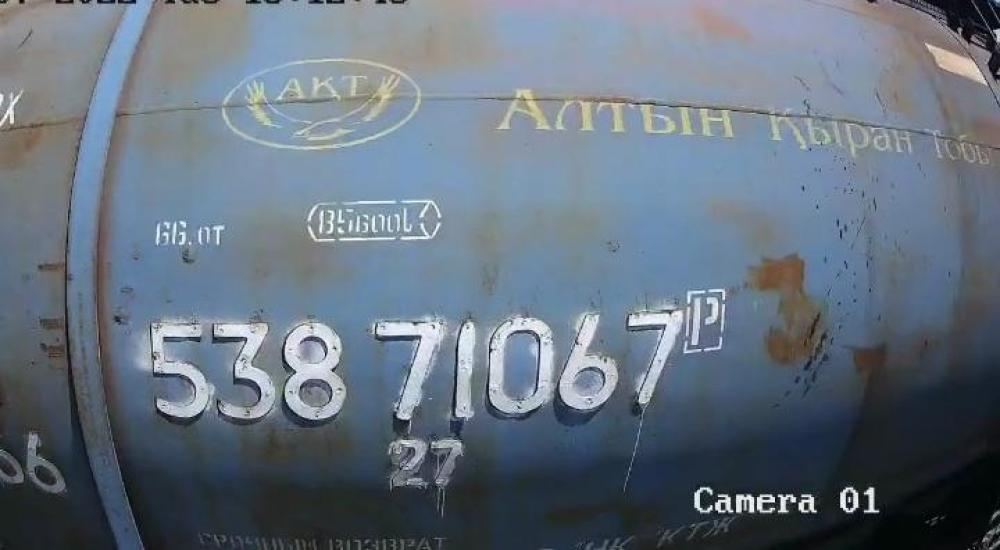Wagon-number: (145, 308, 691, 428)
